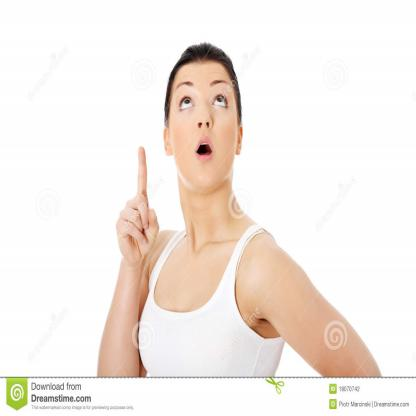Up: (109, 142, 161, 264)
